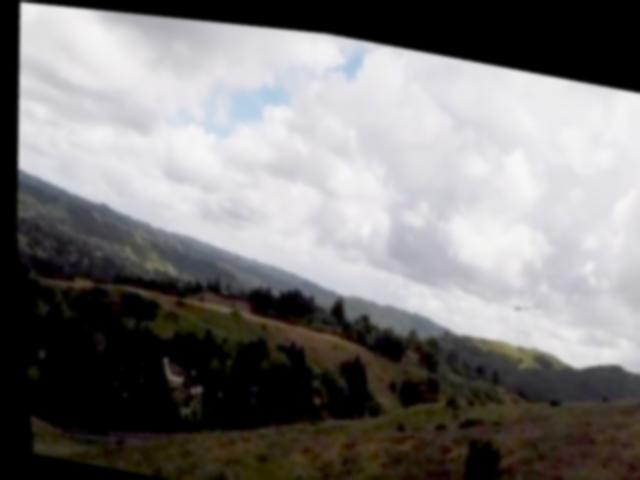iha: (493, 275, 541, 310)
